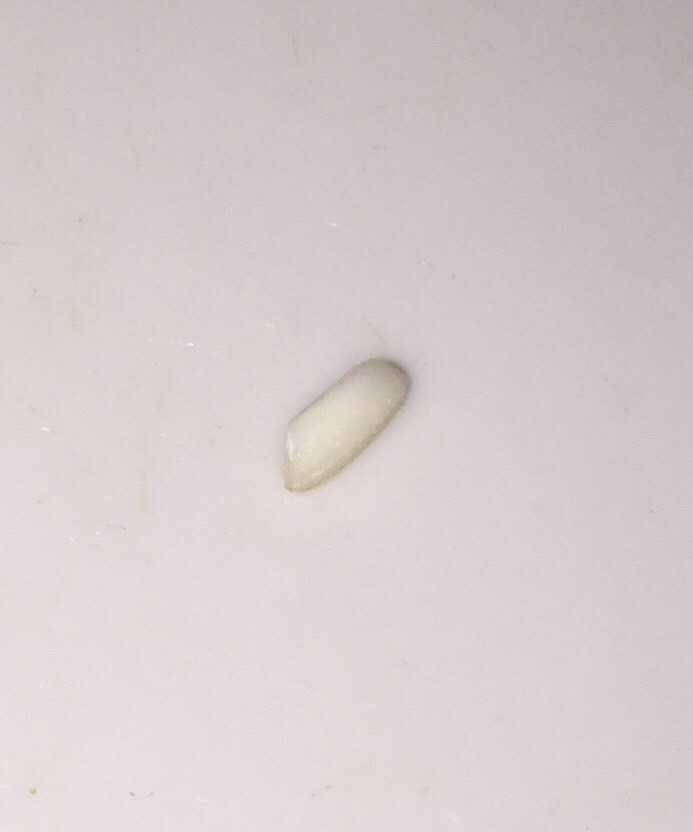Gao Nep Sap: (269, 345, 426, 515)
